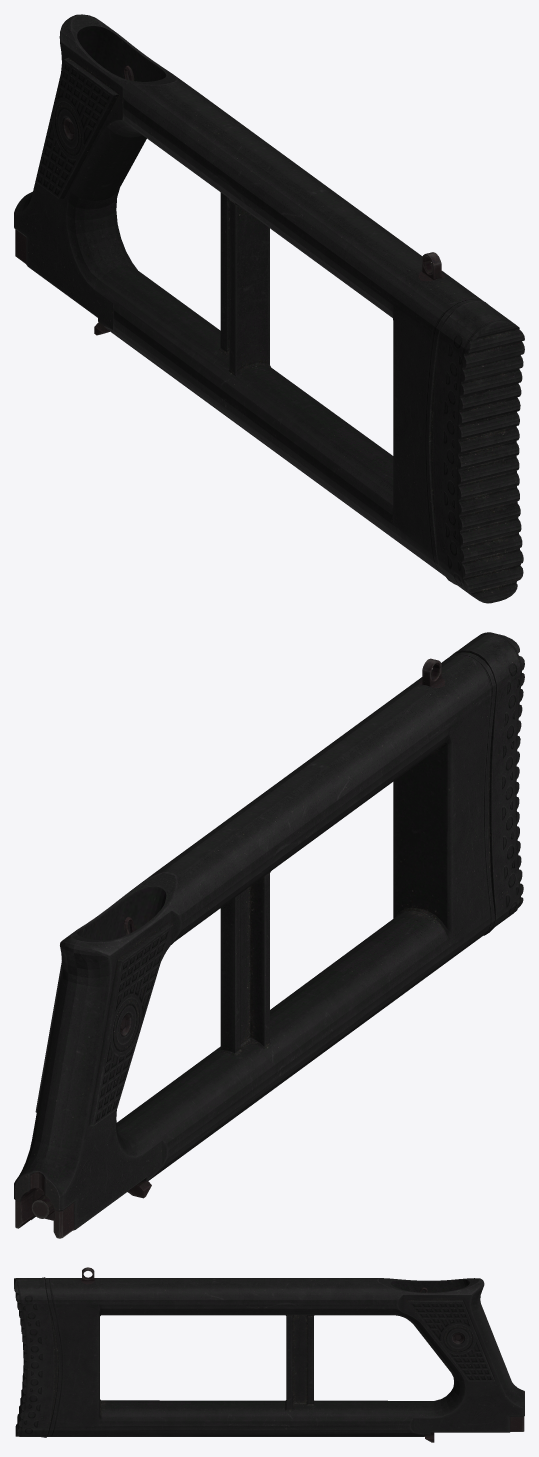
3 views of the same model, one above another, from view 1: azimuth 30°, elevation 25°; view 2: azimuth 150°, elevation 25°; view 3: azimuth 270°, elevation 25° (orthographic). The views are drawn at different scales.
Parts seen in each view (by area): view 1: TW_6452519e3d52156624001fd5_PZ_Import; view 2: TW_6452519e3d52156624001fd5_PZ_Import; view 3: TW_6452519e3d52156624001fd5_PZ_Import.
Boxes of the visible parts, bbox=[...] form: TW_6452519e3d52156624001fd5_PZ_Import: bbox=[14, 14, 524, 603]; TW_6452519e3d52156624001fd5_PZ_Import: bbox=[14, 632, 524, 1238]; TW_6452519e3d52156624001fd5_PZ_Import: bbox=[14, 1267, 524, 1442].
Bounding box in the file's own units: 0.0146 × 0.2004 × 0.0725.
Materials: 1 (1 with a texture image).
